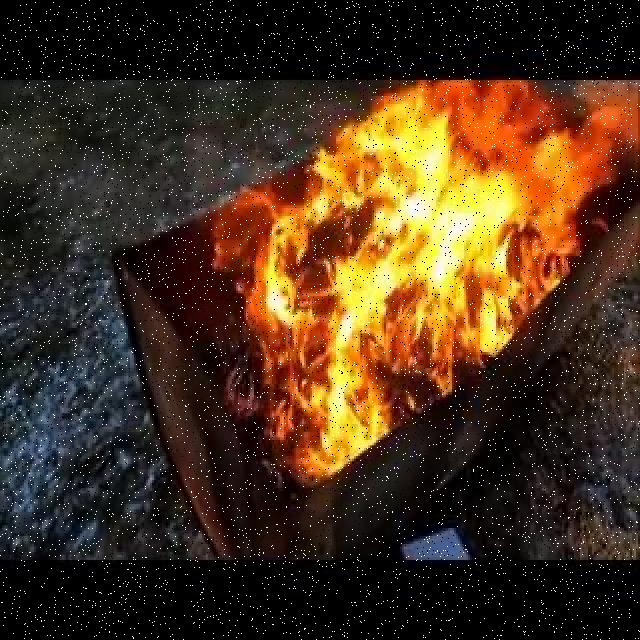fire: (210, 88, 619, 464)
